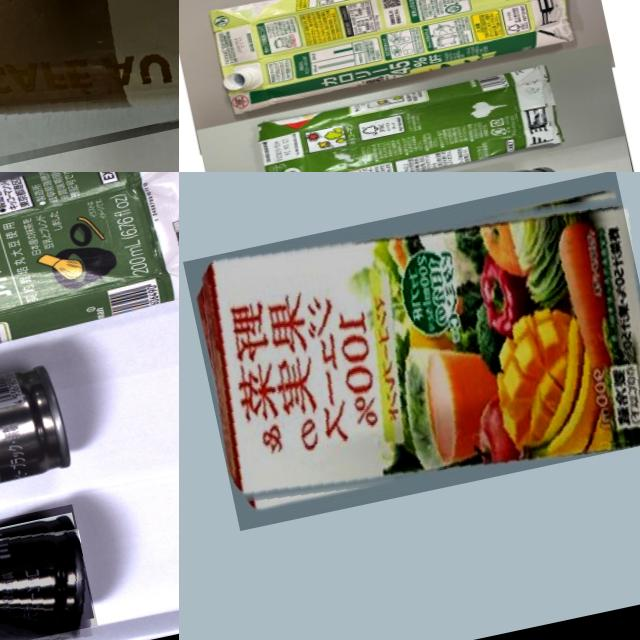Aluminium Foil: (182, 172, 640, 529), (0, 172, 179, 433), (206, 0, 579, 115), (249, 59, 566, 172)
Can: (0, 0, 179, 172)
